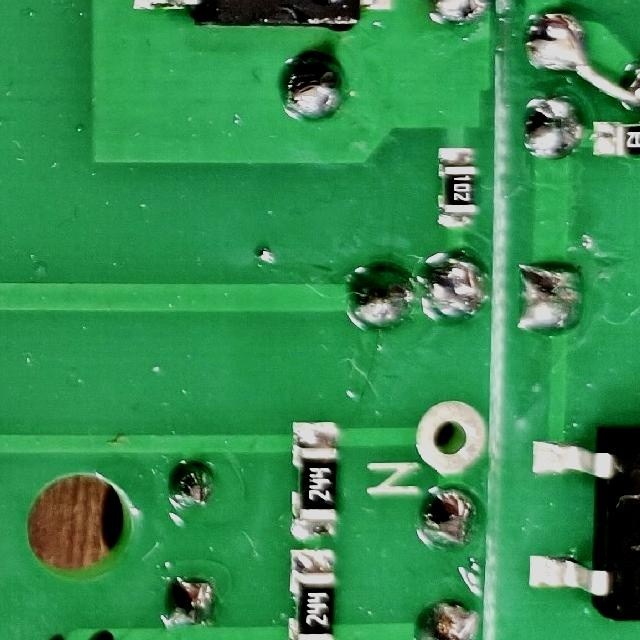chip-resistor: (287, 419, 342, 541), (285, 549, 339, 640), (435, 145, 481, 230), (587, 117, 640, 159)
ic: (521, 420, 640, 625)
